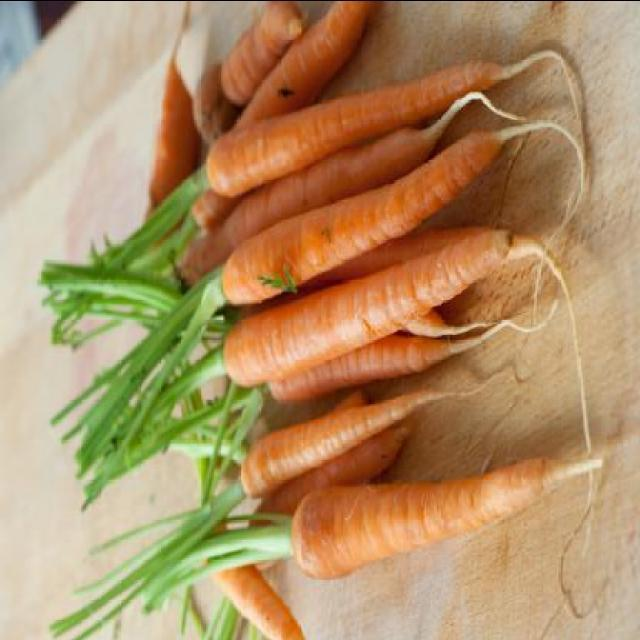Carrot: (35, 0, 603, 638), (40, 452, 608, 640)
